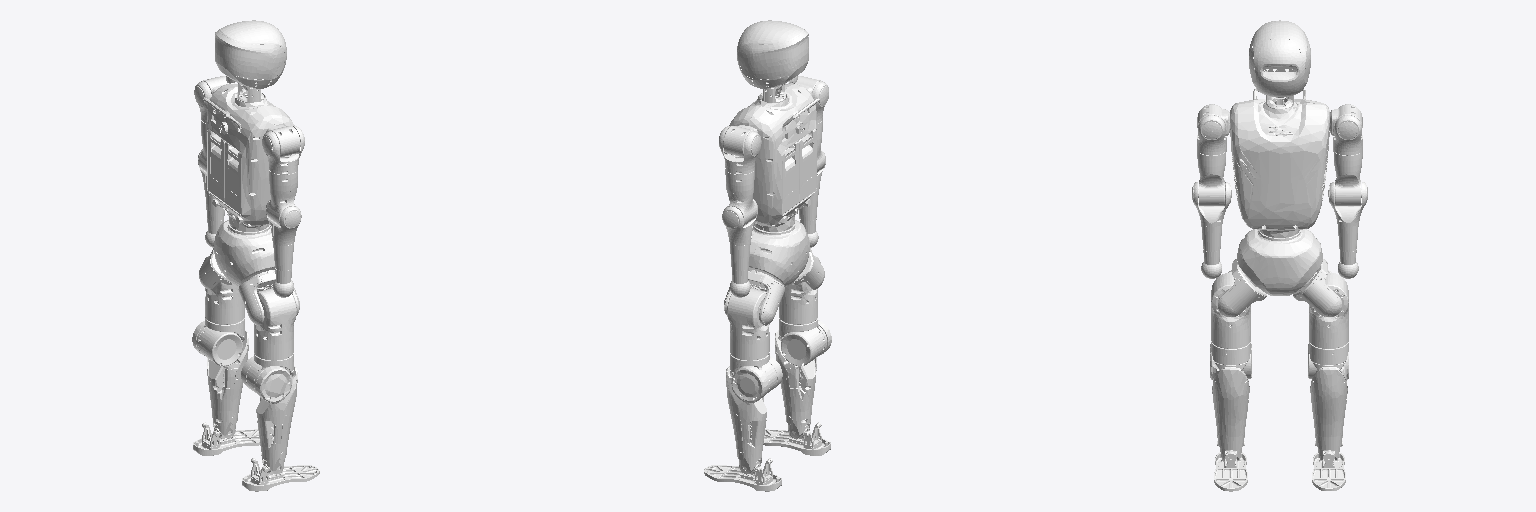
--- Facts derived from the render (not from the file) ---
Views: 3 orthographic renders of the robot side by side, from view 1: azimuth 30°, elevation 25°; view 2: azimuth 150°, elevation 25°; view 3: azimuth 270°, elevation 25°.
Model biped_s14 with 26 links and 25 joints (21 revolute, 4 fixed), rooted at base_link, posed every joint at zero.
Links seen in each view (by area): view 1: base_link, head_pitch, leg_r4_link, waist_yaw_link, leg_l4_link, leg_r2_link, zarm_r4_link, leg_l3_link, leg_l2_link, leg_r6_link, leg_l6_link, zarm_r3_link (+6 smaller); view 2: base_link, head_pitch, leg_l4_link, waist_yaw_link, leg_r4_link, leg_l2_link, zarm_l4_link, leg_r3_link, leg_r2_link, leg_l6_link, leg_r6_link, leg_l1_link (+6 smaller); view 3: base_link, waist_yaw_link, head_pitch, leg_r4_link, leg_l4_link, leg_l2_link, leg_r2_link, zarm_l4_link, zarm_r4_link, zarm_r3_link, zarm_l3_link, leg_l1_link (+7 smaller).
Link boxes in pixels (<box>): base_link: <box>204,84,294,231</box>; head_pitch: <box>215,20,286,88</box>; leg_r4_link: <box>256,366,297,474</box>; waist_yaw_link: <box>214,220,274,286</box>; leg_l4_link: <box>192,321,248,438</box>; leg_r2_link: <box>254,288,296,360</box>; zarm_r4_link: <box>266,199,301,297</box>; leg_l3_link: <box>196,317,244,366</box>; leg_l2_link: <box>203,256,244,324</box>; leg_r6_link: <box>242,458,319,491</box>; leg_l6_link: <box>193,422,259,455</box>; zarm_r3_link: <box>266,170,299,224</box>; base_link: <box>728,84,819,231</box>; head_pitch: <box>737,20,808,88</box>; leg_l4_link: <box>726,366,767,474</box>; waist_yaw_link: <box>749,220,809,286</box>; leg_r4_link: <box>775,320,831,438</box>; leg_l2_link: <box>727,288,769,360</box>; zarm_l4_link: <box>722,199,757,297</box>; leg_r3_link: <box>778,318,826,366</box>; leg_r2_link: <box>779,256,820,324</box>; leg_l6_link: <box>704,458,781,491</box>; leg_r6_link: <box>763,422,830,455</box>; leg_l1_link: <box>724,270,784,325</box>; base_link: <box>1230,89,1329,237</box>; waist_yaw_link: <box>1237,229,1322,295</box>; head_pitch: <box>1249,20,1310,96</box>; leg_r4_link: <box>1210,344,1249,460</box>; leg_l4_link: <box>1310,352,1348,460</box>; leg_l2_link: <box>1309,272,1348,353</box>; leg_r2_link: <box>1211,272,1250,353</box>; zarm_l4_link: <box>1328,182,1367,278</box>; zarm_r4_link: <box>1192,182,1231,278</box>; zarm_r3_link: <box>1197,150,1226,205</box>; zarm_l3_link: <box>1333,150,1362,205</box>; leg_l1_link: <box>1293,259,1341,316</box>.
Bounding box of the posed robot: 0.2167 × 0.4233 × 1.17 m (x, y, z).
24 mesh visuals loaded from 24 distinct referenced files (24 binary STL).

The robot description file, URDF, robot "biped_s14":
<?xml version='1.0' encoding='utf-8'?>
<robot name="biped_s14">
  <mujoco>
    <compiler meshdir="../meshes/" balanceinertia="true" discardvisual="false" />
    <!-- Add site to base_link via worldbody override -->
    <worldbody>
      <body name="base_link" pos="0 0 0.68">
        <site name="imu" pos="0 0 0" />
      </body>
    </worldbody>
    <!-- Sensor definitions -->
    <sensor>
      <accelerometer name="BodyAcc" site="imu"/>
      <velocimeter name="BodyVel" site="imu"/>
      <gyro name="BodyGyro" site="imu"/>
      <framepos name="BodyPos" objtype="site" objname="imu"/>
      <framequat name="BodyQuat" objtype="site" objname="imu"/>
      <jointpos name="waist_yaw_joint_pos" joint="waist_yaw_joint" />
      <jointpos name="leg_l1_joint_pos" joint="leg_l1_joint" />
      <jointpos name="leg_l2_joint_pos" joint="leg_l2_joint" />
      <jointpos name="leg_l3_joint_pos" joint="leg_l3_joint" />
      <jointpos name="leg_l4_joint_pos" joint="leg_l4_joint" />
      <jointpos name="leg_l5_joint_pos" joint="leg_l5_joint" />
      <jointpos name="leg_l6_joint_pos" joint="leg_l6_joint" />
      <jointpos name="leg_r1_joint_pos" joint="leg_r1_joint" />
      <jointpos name="leg_r2_joint_pos" joint="leg_r2_joint" />
      <jointpos name="leg_r3_joint_pos" joint="leg_r3_joint" />
      <jointpos name="leg_r4_joint_pos" joint="leg_r4_joint" />
      <jointpos name="leg_r5_joint_pos" joint="leg_r5_joint" />
      <jointpos name="leg_r6_joint_pos" joint="leg_r6_joint" />
      <jointpos name="zarm_l1_joint_pos" joint="zarm_l1_joint" />
      <jointpos name="zarm_l2_joint_pos" joint="zarm_l2_joint" />
      <jointpos name="zarm_l3_joint_pos" joint="zarm_l3_joint" />
      <jointpos name="zarm_l4_joint_pos" joint="zarm_l4_joint" />
      <jointpos name="zarm_r1_joint_pos" joint="zarm_r1_joint" />
      <jointpos name="zarm_r2_joint_pos" joint="zarm_r2_joint" />
      <jointpos name="zarm_r3_joint_pos" joint="zarm_r3_joint" />
      <jointpos name="zarm_r4_joint_pos" joint="zarm_r4_joint" />
      <jointvel name="leg_l1_joint_vel" joint="leg_l1_joint" />
      <jointvel name="leg_l2_joint_vel" joint="leg_l2_joint" />
      <jointvel name="leg_l3_joint_vel" joint="leg_l3_joint" />
      <jointvel name="leg_l4_joint_vel" joint="leg_l4_joint" />
      <jointvel name="leg_l5_joint_vel" joint="leg_l5_joint" />
      <jointvel name="leg_l6_joint_vel" joint="leg_l6_joint" />
      <jointvel name="leg_r1_joint_vel" joint="leg_r1_joint" />
      <jointvel name="leg_r2_joint_vel" joint="leg_r2_joint" />
      <jointvel name="leg_r3_joint_vel" joint="leg_r3_joint" />
      <jointvel name="leg_r4_joint_vel" joint="leg_r4_joint" />
      <jointvel name="leg_r5_joint_vel" joint="leg_r5_joint" />
      <jointvel name="leg_r6_joint_vel" joint="leg_r6_joint" />
      <jointvel name="waist_yaw_joint_vel" joint="waist_yaw_joint" />
      <jointvel name="zarm_l1_joint_vel" joint="zarm_l1_joint" />
      <jointvel name="zarm_l2_joint_vel" joint="zarm_l2_joint" />
      <jointvel name="zarm_l3_joint_vel" joint="zarm_l3_joint" />
      <jointvel name="zarm_l4_joint_vel" joint="zarm_l4_joint" />
      <jointvel name="zarm_r1_joint_vel" joint="zarm_r1_joint" />
      <jointvel name="zarm_r2_joint_vel" joint="zarm_r2_joint" />
      <jointvel name="zarm_r3_joint_vel" joint="zarm_r3_joint" />
      <jointvel name="zarm_r4_joint_vel" joint="zarm_r4_joint" />
    </sensor>
  </mujoco>
  <!-- <link name="dummy_link" />   -->
  <link name="base_link">
    <inertial>
      <origin xyz="-0.00602072 -0.00050080 0.14657555" rpy="0 0 0" />
      <mass value="8.0177760" />
      <inertia ixx="0.08599049" ixy="0.0" ixz="0.0" iyy="0.06733455" iyz="0.0" izz="0.04204287" />
    </inertial>
    <visual>
      <origin xyz="0 0 0" rpy="0 0 0" />
      <geometry>
        <mesh filename="../meshes/torso.STL" />
      </geometry>
      <material name="1">
        <color rgba="1 1 1 1" />
      </material>
    </visual>
    <collision>
      <origin xyz="0.01 0 0.14" rpy="0 0 0" />
      <geometry>
        <box size="0.14 0.2 0.26" />
      </geometry>
    </collision>
    <collision>
      <origin xyz="-0.09 0 0.285" rpy="1.5708 0 0" />
      <geometry>
        <capsule radius="0.005" length="0.1" />
      </geometry>
    </collision>
  </link>
  <!-- <joint name="dummy_to_base_link" type="floating">
    <origin xyz="0 0 0" rpy="0 0 0" />
    <parent link="dummy_link" />
    <child link="base_link" />
  </joint> -->
  <link name="waist_yaw_link">
    <inertial>
      <origin xyz="0.00152560 0.00013413 -0.11927572" rpy="0 0 0" />
      <mass value="4.60775998" />
      <inertia ixx="0.02101970" ixy="0.0" ixz="0.0" iyy="0.01458628" iyz="0.0" izz="0.01454007" />
    </inertial>
    <visual>
      <origin xyz="0 0 0" rpy="0 0 0" />
      <geometry>
        <mesh filename="../meshes/waist.STL" />
      </geometry>
      <material name="">
        <color rgba="1 1 1 1" />
      </material>
    </visual>
    <collision>
      <origin xyz="0.005 0 -0.11" rpy="0.786 0 0" />
      <geometry>
        <box size="0.12 0.14 0.14" />
      </geometry>
    </collision>
  </link>
  <joint name="waist_yaw_joint" type="revolute">
    <origin xyz="0 0 0" rpy="0 0 0" />
    <parent link="base_link" />
    <child link="waist_yaw_link" />
    <axis xyz="0 0 1" />
    <limit lower="-2.61799387799149" upper="2.61799387799149" effort="50" velocity="8.37333333333333" />
  </joint>
  <link name="leg_l1_link">
    <inertial>
      <origin xyz="-0.00211316 -0.02890476 0.02937117" rpy="0 0 0" />
      <mass value="0.42877618" />
      <inertia ixx="0.00068134" ixy="0.0" ixz="0.0" iyy="0.00105689" iyz="0.0" izz="0.00113479" />
    </inertial>
    <visual>
      <origin xyz="0 0 0" rpy="0 0 0" />
      <geometry>
        <mesh filename="../meshes/l_leg_pitch.STL" />
      </geometry>
      <material name="">
        <color rgba="1 1 1 1" />
      </material>
    </visual>
    <collision>
      <origin xyz="-0.007 -0.015 0.015" rpy="0.786 0 0" />
      <geometry>
        <box size="0.1 0.08 0.1" />
      </geometry>
    </collision>
  </link>
  <joint name="leg_l1_joint" type="revolute">
    <origin xyz="0.0 0.11751 -0.21991621" rpy="0 0 0" />
    <parent link="waist_yaw_link" />
    <child link="leg_l1_link" />
    <axis xyz="0 0.70711 -0.70711" />
    <limit lower="-3.228" upper="2.356" effort="180" velocity="23.55" />
    <dynamics damping="0.2" friction="0.1" />
  </joint>
  <link name="leg_l2_link">
    <inertial>
      <origin xyz="0.00300817 0.00001847 -0.05309364" rpy="0 0 0" />
      <mass value="2.5" />
      <inertia ixx="0.00730479" ixy="0.0" ixz="0.0" iyy="0.00721205" iyz="0.0" izz="0.00242566" />
    </inertial>
    <visual>
      <origin xyz="0 0 0" rpy="0 0 0" />
      <geometry>
        <mesh filename="../meshes/l_leg_roll.STL" />
      </geometry>
      <material name="">
        <color rgba="1 1 1 1" />
      </material>
    </visual>
  </link>
  <joint name="leg_l2_joint" type="revolute">
    <origin xyz="0 0 0" rpy="0 0 0" />
    <parent link="leg_l1_link" />
    <child link="leg_l2_link" />
    <axis xyz="1 0 0" />
    <limit lower="-0.845961088441652" upper="2.41413942135856" effort="100" velocity="41.3433333333333" />
    <dynamics damping="0.2" friction="0.1" />
  </joint>
  <link name="leg_l3_link">
    <inertial>
      <origin xyz="-0.01544971  -0.00591775 -0.17489584" rpy="0 0 0" />
      <mass value="1.109669" />
      <inertia ixx="0.00103599" ixy="0.0" ixz="0.0" iyy="0.00139772" iyz="0.0" izz="0.00144923" />
    </inertial>
    <visual>
      <origin xyz="0 0 0" rpy="0 0 0" />
      <geometry>
        <mesh filename="../meshes/l_leg_yaw.STL" />
      </geometry>
      <material name="">
        <color rgba="1 1 1 1" />
      </material>
    </visual>
    <collision>
      <origin xyz="-0.021 0 -0.182" rpy="1.57 0 0" />
      <geometry>
        <capsule radius="0.045" length="0.03" />
      </geometry>
    </collision>
  </link>
  <joint name="leg_l3_joint" type="revolute">
    <origin xyz="0 0 0" rpy="0 0 0" />
    <parent link="leg_l2_link" />
    <child link="leg_l3_link" />
    <axis xyz="0 0 1" />
    <limit lower="-1.658" upper="1.658" effort="100" velocity="41.3433333333333" />
    <dynamics damping="0.2" friction="0.1" />
  </joint>
  <link name="leg_l4_link">
    <inertial>
      <origin xyz="0.02228808 0.00808286 -0.10477895" rpy="0 0 0" />
      <mass value="1.55038362" />
      <inertia ixx="0.00666050" ixy="0.0" ixz="0.0" iyy="0.00641861" iyz="0.0" izz="0.00106882" />
    </inertial>
    <visual>
      <origin xyz="0 0 0" rpy="0 0 0" />
      <geometry>
        <mesh filename="../meshes/l_knee.STL" />
      </geometry>
      <material name="">
        <color rgba="1 1 1 1" />
      </material>
    </visual>
    <collision>
      <origin xyz="0.021 0 -0.13" rpy="0 0 0" />
      <geometry>
        <capsule radius="0.045" length="0.18" />
      </geometry>
    </collision>
    <collision>
      <origin xyz="0.07 0 0.01" rpy="1.57 0 0" />
      <geometry>
        <capsule radius="0.005" length="0.04" />
      </geometry>
    </collision>
    <collision>
      <origin xyz="0.072 0 -0.05" rpy="1.57 0 0" />
      <geometry>
        <capsule radius="0.005" length="0.02" />
      </geometry>
    </collision>
  </link>
  <joint name="leg_l4_joint" type="revolute">
    <origin xyz="-0.021 0 -0.182" rpy="0 0 0" />
    <parent link="leg_l3_link" />
    <child link="leg_l4_link" />
    <axis xyz="0 1 0" />
    <limit lower="0.0" upper="2.61799387799149" effort="180" velocity="23.55" />
    <dynamics damping="0.2" friction="0.1" />
  </joint>
  <link name="leg_l5_link">
    <inertial>
      <origin xyz="0.0 0.0 0.0" rpy="0 0 0" />
      <mass value="0.06923766 " />
      <inertia ixx="6.7e-06" ixy="0.0" ixz="0.0" iyy="6.7e-06" iyz="0.0" izz="1.172e-05" />
    </inertial>
    <visual>
      <origin xyz="0 0 0" rpy="0 0 0" />
      <geometry>
        <mesh filename="../meshes/l_foot_pitch.STL" />
      </geometry>
      <material name="">
        <color rgba="1 1 1 1" />
      </material>
    </visual>
  </link>
  <joint name="leg_l5_joint" type="revolute">
    <origin xyz="0.021 0 -0.235" rpy="0 0 0" />
    <parent link="leg_l4_link" />
    <child link="leg_l5_link" />
    <axis xyz="0 1 0" />
    <limit lower="-0.872664625997165" upper="0.523598775598299" effort="36" velocity="23.0266666666667" />
    <dynamics damping="0.2" friction="0.1" />
  </joint>
  <link name="leg_l6_link">
    <inertial>
      <origin xyz="-0.00410545 0 -0.02650622" rpy="0 0 0" />
      <mass value="0.34819511 " />
      <inertia ixx="0.00019603" ixy="0.0" ixz="0.0" iyy="0.00090207" iyz="0.0" izz="0.00096359" />
    </inertial>
    <visual>
      <origin xyz="0 0 0" rpy="0 0 0" />
      <geometry>
        <mesh filename="../meshes/l_foot_roll.STL" />
      </geometry>
      <material name="">
        <color rgba="1 1 1 1" />
      </material>
    </visual>
    <collision>
      <origin xyz="0.082 0 -0.0475" rpy="0 0 0" />
      <geometry>
        <cylinder radius="0.04" length="0.008" />
      </geometry>
    </collision>
    <collision>
      <origin xyz="-0.045 0 -0.0475" rpy="0 0 0" />
      <geometry>
        <cylinder radius="0.04" length="0.008" />
      </geometry>
    </collision>
    <collision>
      <origin xyz="0.015 0 -0.0475" rpy="0 0 0" />
      <geometry>
        <box size="0.12 0.076 0.008" />
      </geometry>
    </collision>
  </link>
  <joint name="leg_l6_joint" type="revolute">
    <origin xyz="0 0 0" rpy="0 0 0" />
    <parent link="leg_l5_link" />
    <child link="leg_l6_link" />
    <axis xyz="1 0 0" />
    <limit lower="-0.261799387799149" upper="0.261799387799149" effort="36" velocity="23.0266666666667" />
    <dynamics damping="0.2" friction="0.1" />
  </joint>
  <link name="leg_r1_link">
    <inertial>
      <origin xyz="-0.00211316 0.02890476 0.02937117" rpy="0 0 0" />
      <mass value="0.42877618" />
      <inertia ixx="0.00068134" ixy="0.0" ixz="0.0" iyy="0.00105689" iyz="0.0" izz="0.00113479" />
    </inertial>
    <visual>
      <origin xyz="0 0 0" rpy="0 0 0" />
      <geometry>
        <mesh filename="../meshes/r_leg_pitch.STL" />
      </geometry>
      <material name="">
        <color rgba="1 1 1 1" />
      </material>
    </visual>
    <collision>
      <origin xyz="-0.007 0.015 0.015" rpy="-0.786 0 0" />
      <geometry>
        <box size="0.1 0.08 0.1" />
      </geometry>
    </collision>
  </link>
  <joint name="leg_r1_joint" type="revolute">
    <origin xyz="0.0 -0.11751 -0.21991621" rpy="0 0 0" />
    <parent link="waist_yaw_link" />
    <child link="leg_r1_link" />
    <axis xyz="0 -0.70711 -0.70711" />
    <limit lower="-2.356" upper="3.228" effort="180" velocity="23.55" />
    <dynamics damping="0.2" friction="0.1" />
  </joint>
  <link name="leg_r2_link">
    <inertial>
      <origin xyz="0.00300817 0.00001847 -0.05309364" rpy="0 0 0" />
      <mass value="2.5" />
      <inertia ixx="0.00730479" ixy="0.0" ixz="0.0" iyy="0.00721205" iyz="0.0" izz="0.00242566" />
    </inertial>
    <visual>
      <origin xyz="0 0 0" rpy="0 0 0" />
      <geometry>
        <mesh filename="../meshes/r_leg_roll.STL" />
      </geometry>
      <material name="">
        <color rgba="1 1 1 1" />
      </material>
    </visual>
  </link>
  <joint name="leg_r2_joint" type="revolute">
    <origin xyz="0 0 0" rpy="0 0 0" />
    <parent link="leg_r1_link" />
    <child link="leg_r2_link" />
    <axis xyz="1 0 0" />
    <limit lower="-2.41413942135856" upper="0.847008285992848" effort="100" velocity="41.3433333333333" />
    <dynamics damping="0.2" friction="0.1" />
  </joint>
  <link name="leg_r3_link">
    <inertial>
      <origin xyz="-0.01544971  0.00591775 -0.17489584" rpy="0 0 0" />
      <mass value="1.109669" />
      <inertia ixx="0.00103599" ixy="0.0" ixz="0.0" iyy="0.00139772" iyz="0.0" izz="0.00144923" />
    </inertial>
    <visual>
      <origin xyz="0 0 0" rpy="0 0 0" />
      <geometry>
        <mesh filename="../meshes/r_leg_yaw.STL" />
      </geometry>
      <material name="">
        <color rgba="1 1 1 1" />
      </material>
    </visual>
    <collision>
      <origin xyz="-0.021 0 -0.182" rpy="1.57 0 0" />
      <geometry>
        <capsule radius="0.045" length="0.03" />
      </geometry>
    </collision>
  </link>
  <joint name="leg_r3_joint" type="revolute">
    <origin xyz="0 0 0" rpy="0 0 0" />
    <parent link="leg_r2_link" />
    <child link="leg_r3_link" />
    <axis xyz="0 0 1" />
    <limit lower="-1.658" upper="1.658" effort="100" velocity="41.3433333333333" />
    <dynamics damping="0.2" friction="0.1" />
  </joint>
  <link name="leg_r4_link">
    <inertial>
      <origin xyz="0.02228808 -0.00808286 -0.10477895" rpy="0 0 0" />
      <mass value="1.55038362" />
      <inertia ixx="0.00666050" ixy="0.0" ixz="0.0" iyy="0.00641861" iyz="0.0" izz="0.00106882" />
    </inertial>
    <visual>
      <origin xyz="0 0 0" rpy="0 0 0" />
      <geometry>
        <mesh filename="../meshes/r_knee.STL" />
      </geometry>
      <material name="">
        <color rgba="1 1 1 1" />
      </material>
    </visual>
    <collision>
      <origin xyz="0.021 0 -0.13" rpy="0 0 0" />
      <geometry>
        <capsule radius="0.045" length="0.18" />
      </geometry>
    </collision>
    <collision>
      <origin xyz="0.07 0 0.01" rpy="1.57 0 0" />
      <geometry>
        <capsule radius="0.005" length="0.04" />
      </geometry>
    </collision>
    <collision>
      <origin xyz="0.072 0 -0.05" rpy="1.57 0 0" />
      <geometry>
        <capsule radius="0.005" length="0.02" />
      </geometry>
    </collision>
  </link>
  <joint name="leg_r4_joint" type="revolute">
    <origin xyz="-0.021 0 -0.182" rpy="0 0 0" />
    <parent link="leg_r3_link" />
    <child link="leg_r4_link" />
    <axis xyz="0 1 0" />
    <limit lower="0.0" upper="2.61799387799149" effort="180" velocity="23.55" />
    <dynamics damping="0.2" friction="0.1" />
  </joint>
  <link name="leg_r5_link">
    <inertial>
      <origin xyz="0.0 0.0 0.0" rpy="0 0 0" />
      <mass value="0.06923766 " />
      <inertia ixx="6.7e-06" ixy="0.0" ixz="0.0" iyy="6.7e-06" iyz="0.0" izz="1.172e-05" />
    </inertial>
    <visual>
      <origin xyz="0 0 0" rpy="0 0 0" />
      <geometry>
        <mesh filename="../meshes/r_foot_pitch.STL" />
      </geometry>
      <material name="">
        <color rgba="1 1 1 1" />
      </material>
    </visual>
  </link>
  <joint name="leg_r5_joint" type="revolute">
    <origin xyz="0.021 0 -0.235" rpy="0 0 0" />
    <parent link="leg_r4_link" />
    <child link="leg_r5_link" />
    <axis xyz="0 1 0" />
    <limit lower="-0.872664625997165" upper="0.523598775598299" effort="36" velocity="23.0266666666667" />
    <dynamics damping="0.2" friction="0.1" />
  </joint>
  <link name="leg_r6_link">
    <inertial>
      <origin xyz="-0.00410545 0 -0.02650622" rpy="0 0 0" />
      <mass value="0.34819511 " />
      <inertia ixx="0.00019603" ixy="0.0" ixz="0.0" iyy="0.00090207" iyz="0.0" izz="0.00096359" />
    </inertial>
    <visual>
      <origin xyz="0 0 0" rpy="0 0 0" />
      <geometry>
        <mesh filename="../meshes/r_foot_roll.STL" />
      </geometry>
      <material name="">
        <color rgba="1 1 1 1" />
      </material>
    </visual>
    <collision>
      <origin xyz="0.082 0 -0.0475" rpy="0 0 0" />
      <geometry>
        <cylinder radius="0.04" length="0.008" />
      </geometry>
    </collision>
    <collision>
      <origin xyz="-0.045 0 -0.0475" rpy="0 0 0" />
      <geometry>
        <cylinder radius="0.04" length="0.008" />
      </geometry>
    </collision>
    <collision>
      <origin xyz="0.015 0 -0.0475" rpy="0 0 0" />
      <geometry>
        <box size="0.12 0.076 0.008" />
      </geometry>
    </collision>
  </link>
  <joint name="leg_r6_joint" type="revolute">
    <origin xyz="0 0 0" rpy="0 0 0" />
    <parent link="leg_r5_link" />
    <child link="leg_r6_link" />
    <axis xyz="1 0 0" />
    <limit lower="-0.261799387799149" upper="0.261799387799149" effort="36" velocity="23.0266666666667" />
    <dynamics damping="0.2" friction="0.1" />
  </joint>
  <link name="zarm_l1_link">
    <inertial>
      <origin xyz="0.00360552 -0.00144553 0.00001956" rpy="0 0 0" />
      <mass value="0.37301570 " />
      <inertia ixx="0.00011508" ixy="0." ixz="0." iyy="0.00013133" iyz="0." izz="0.00015171" />
    </inertial>
    <visual>
      <origin xyz="0 0 0" rpy="0 0 0" />
      <geometry>
        <mesh filename="../meshes/l_arm_pitch.STL" />
      </geometry>
      <material name="">
        <color rgba="1 1 1 1" />
      </material>
    </visual>
    <collision>
      <origin xyz="0 0 0" rpy="0 1.5708 0" />
      <geometry>
        <capsule radius="0.035" length="0.04" />
      </geometry>
    </collision>
  </link>
  <joint name="zarm_l1_joint" type="revolute">
    <origin xyz="0.00029999 0.16350292 0.23992606" rpy="0 0 0" />
    <parent link="base_link" />
    <child link="zarm_l1_link" />
    <axis xyz="0 1 0" />
    <limit lower="-3.14159265358979" upper="2.0943951023932" effort="12" velocity="7.32666666666667" />
    <dynamics damping="0.2" friction="0.1" />
  </joint>
  <link name="zarm_l2_link">
    <inertial>
      <origin xyz="0.00089424 0 -0.04238937" rpy="0 0 0" />
      <mass value="0.15112869" />
      <inertia ixx="0.00018029" ixy="0.0" ixz="0." iyy="0.00022693" iyz="0.0" izz="0.00015001" />
    </inertial>
    <visual>
      <origin xyz="0 0 0" rpy="0 0 0" />
      <geometry>
        <mesh filename="../meshes/l_arm_roll.STL" />
      </geometry>
      <material name="">
        <color rgba="1 1 1 1" />
      </material>
    </visual>
  </link>
  <joint name="zarm_l2_joint" type="revolute">
    <origin xyz="0 0 0" rpy="0 0 0" />
    <parent link="zarm_l1_link" />
    <child link="zarm_l2_link" />
    <axis xyz="1 0 0" />
    <limit lower="-0.349065850398866" upper="3.49065850398866" effort="12" velocity="7.32666666666667" />
    <dynamics damping="0.2" friction="0.1" />
  </joint>
  <link name="zarm_l3_link">
    <inertial>
      <origin xyz="-0.00011141 -0.00359387 -0.14417629" rpy="0 0 0" />
      <mass value="0.66922333 " />
      <inertia ixx="0.00170115" ixy="0." ixz="0." iyy="0.00172455" iyz="0." izz="0.00031003" />
    </inertial>
    <visual>
      <origin xyz="0 0 0" rpy="0 0 0" />
      <geometry>
        <mesh filename="../meshes/l_arm_yaw.STL" />
      </geometry>
      <material name="">
        <color rgba="1 1 1 1" />
      </material>
    </visual>
    <collision>
      <origin xyz="0 0 -0.1" rpy="0 0 0" />
      <geometry>
        <capsule radius="0.035" length="0.04" />
      </geometry>
    </collision>
  </link>
  <joint name="zarm_l3_joint" type="revolute">
    <origin xyz="0 0 0" rpy="0 0 0" />
    <parent link="zarm_l2_link" />
    <child link="zarm_l3_link" />
    <axis xyz="0 0 1" />
    <limit lower="-1.5707963267949" upper="1.5707963267949" effort="12" velocity="7.32666666666667" />
    <dynamics damping="0.2" friction="0.1" />
  </joint>
  <link name="zarm_l4_link">
    <inertial>
      <origin xyz="-0.00053745 -0.00090249 -0.09492575" rpy="0 0 0" />
      <mass value="0.16269441 " />
      <inertia ixx="0.00085779" ixy="0." ixz="0." iyy="0.00081091" iyz="0." izz="0.00012103" />
    </inertial>
    <visual>
      <origin xyz="0 0 0" rpy="0 0 0" />
      <geometry>
        <mesh filename="../meshes/l_forearm.STL" />
      </geometry>
      <material name="">
        <color rgba="1 1 1 1" />
      </material>
    </visual>
    <collision>
      <origin xyz="0 0 0" rpy="1.57 0 0" />
      <geometry>
        <capsule radius="0.03" length="0.03" />
      </geometry>
    </collision>
    <collision>
      <origin xyz="0 0 -0.12" rpy="0 0 0" />
      <geometry>
        <capsule radius="0.025" length="0.155" />
      </geometry>
    </collision>
  </link>
  <joint name="zarm_l4_joint" type="revolute">
    <origin xyz="0 0 -0.188" rpy="0 0 0" />
    <parent link="zarm_l3_link" />
    <child link="zarm_l4_link" />
    <axis xyz="0 1 0" />
    <limit lower="-2.26892802759263" upper="0.0" effort="12" velocity="7.32666666666667" />
    <dynamics damping="0.2" friction="0.1" />
  </joint>
  <!-- Left hand (400g dexterous hand) -->
  <link name="hand_l_link">
    <inertial>
      <origin xyz="0 0 0" rpy="0 0 0" />
      <mass value="0.4" />
      <!-- Sphere inertia: I = (2/5) * m * r^2, r=0.02m -->
      <inertia ixx="0.000064" ixy="0" ixz="0" iyy="0.000064" iyz="0" izz="0.000064" />
    </inertial>
  </link>
  <joint name="hand_l_joint" type="fixed">
    <origin xyz="0 0 -0.1975" rpy="0 0 0" />
    <parent link="zarm_l4_link" />
    <child link="hand_l_link" />
  </joint>
  <link name="zarm_r1_link">
    <inertial>
      <origin xyz="0.00360552 -0.00144553 0.00001956" rpy="0 0 0" />
      <mass value="0.37301570 " />
      <inertia ixx="0.00011508" ixy="0." ixz="0." iyy="0.00013133" iyz="0." izz="0.00015171" />
    </inertial>
    <visual>
      <origin xyz="0 0 0" rpy="0 0 0" />
      <geometry>
        <mesh filename="../meshes/r_arm_pitch.STL" />
      </geometry>
      <material name="">
        <color rgba="1 1 1 1" />
      </material>
    </visual>
    <collision>
      <origin xyz="0 0 0" rpy="0 1.5708 0" />
      <geometry>
        <capsule radius="0.035" length="0.04" />
      </geometry>
    </collision>
  </link>
  <joint name="zarm_r1_joint" type="revolute">
    <origin xyz="0.00029999 -0.16350292 0.23992606" rpy="0 0 0" />
    <parent link="base_link" />
    <child link="zarm_r1_link" />
    <axis xyz="0 1 0" />
    <limit lower="-3.14159265358979" upper="2.0943951023932" effort="12" velocity="7.32666666666667" />
    <dynamics damping="0.2" friction="0.1" />
  </joint>
  <link name="zarm_r2_link">
    <inertial>
      <origin xyz="0.00089424 0 -0.04238937" rpy="0 0 0" />
      <mass value="0.15112869" />
      <inertia ixx="0.00018029" ixy="0.0" ixz="0." iyy="0.00022693" iyz="0.0" izz="0.00015001" />
    </inertial>
    <visual>
      <origin xyz="0 0 0" rpy="0 0 0" />
      <geometry>
        <mesh filename="../meshes/r_arm_roll.STL" />
      </geometry>
      <material name="">
        <color rgba="1 1 1 1" />
      </material>
    </visual>
  </link>
  <joint name="zarm_r2_joint" type="revolute">
    <origin xyz="0 0 0" rpy="0 0 0" />
    <parent link="zarm_r1_link" />
    <child link="zarm_r2_link" />
    <axis xyz="1 0 0" />
    <limit lower="-3.49065850398866" upper="0.349065850398866" effort="12" velocity="7.32666666666667" />
    <dynamics damping="0.2" friction="0.1" />
  </joint>
  <link name="zarm_r3_link">
    <inertial>
      <origin xyz="-0.00011141 -0.00359387 -0.14417629" rpy="0 0 0" />
      <mass value="0.66922333 " />
      <inertia ixx="0.00170115" ixy="0." ixz="0." iyy="0.00172455" iyz="0." izz="0.00031003" />
    </inertial>
    <visual>
      <origin xyz="0 0 0" rpy="0 0 0" />
      <geometry>
        <mesh filename="../meshes/r_arm_yaw.STL" />
      </geometry>
      <material name="">
        <color rgba="1 1 1 1" />
      </material>
    </visual>
    <collision>
      <origin xyz="0 0 -0.1" rpy="0 0 0" />
      <geometry>
        <capsule radius="0.035" length="0.04" />
      </geometry>
    </collision>
  </link>
  <joint name="zarm_r3_joint" type="revolute">
    <origin xyz="0 0 0" rpy="0 0 0" />
    <parent link="zarm_r2_link" />
    <child link="zarm_r3_link" />
    <axis xyz="0 0 1" />
    <limit lower="-1.5707963267949" upper="1.5707963267949" effort="12" velocity="7.32666666666667" />
    <dynamics damping="0.2" friction="0.1" />
  </joint>
  <link name="zarm_r4_link">
    <inertial>
      <origin xyz="-0.00053745 -0.00090249 -0.09492575" rpy="0 0 0" />
      <mass value="0.16269441 " />
      <inertia ixx="0.00085779" ixy="0." ixz="0." iyy="0.00081091" iyz="0." izz="0.00012103" />
    </inertial>
    <visual>
      <origin xyz="0 0 0" rpy="0 0 0" />
      <geometry>
        <mesh filename="../meshes/r_forearm.STL" />
      </geometry>
      <material name="">
        <color rgba="1 1 1 1" />
      </material>
    </visual>
    <collision>
      <origin xyz="0 0 0" rpy="1.57 0 0" />
      <geometry>
        <capsule radius="0.03" length="0.03" />
      </geometry>
    </collision>
    <collision>
      <origin xyz="0 0 -0.12" rpy="0 0 0" />
      <geometry>
        <capsule radius="0.025" length="0.155" />
      </geometry>
    </collision>
  </link>
  <joint name="zarm_r4_joint" type="revolute">
    <origin xyz="0 0 -0.188" rpy="0 0 0" />
    <parent link="zarm_r3_link" />
    <child link="zarm_r4_link" />
    <axis xyz="0 1 0" />
    <limit lower="-2.26892802759263" upper="0.0" effort="12" velocity="7.32666666666667" />
    <dynamics damping="0.2" friction="0.1" />
  </joint>
  <!-- Right hand (400g dexterous hand) -->
  <link name="hand_r_link">
    <inertial>
      <origin xyz="0 0 0" rpy="0 0 0" />
      <mass value="0.4" />
      <!-- Sphere inertia: I = (2/5) * m * r^2, r=0.02m -->
      <inertia ixx="0.000064" ixy="0" ixz="0" iyy="0.000064" iyz="0" izz="0.000064" />
    </inertial>
  </link>
  <joint name="hand_r_joint" type="fixed">
    <origin xyz="0 0 -0.1975" rpy="0 0 0" />
    <parent link="zarm_r4_link" />
    <child link="hand_r_link" />
  </joint>
  <link
    name="head_yaw">
    <inertial>
      <origin
        xyz="-0.00081546 0.0 0.01680967"
        rpy="0 0 0" />
      <mass
        value="1.03077542" />
      <inertia
        ixx="0.00215600"
        ixy="0"
        ixz="0."
        iyy="0.00189151"
        iyz="0."
        izz="0.00071659" />
    </inertial>
    <visual>
      <origin
        xyz="0 0 0"
        rpy="0 0 0" />
      <geometry>
        <mesh
          filename="../meshes/head_yaw.STL" />
      </geometry>
      <material
        name="">
        <color
          rgba="1 1 1 1" />
      </material>
    </visual>
  </link>
  <joint
    name="head_yaw"
    type="fixed">
    <origin
      xyz="0.004 0 0.35618"
      rpy="0 0 0" />
    <parent
      link="base_link" />
    <child
      link="head_yaw" />
    <axis
      xyz="0 0 1" />
  </joint>
  <link
    name="head_pitch">
    <inertial>
      <origin
        xyz="0.01466399 0.0 0.05742895"
        rpy="0 0 0" />
      <mass
        value="0.33654975 " />
      <inertia
        ixx="0.00119625"
        ixy="0."
        ixz="0."
        iyy="0.00141557"
        iyz="0."
        izz="0.00150717" />
    </inertial>
    <visual>
      <origin
        xyz="0 0 0"
        rpy="0 0 0" />
      <geometry>
        <mesh
          filename="../meshes/head_pitch.STL" />
      </geometry>
      <material
        name="">
        <color
          rgba="1 1 1 1" />
      </material>
    </visual>
    <collision>
      <origin xyz="0 0 0.035" rpy="0 0 0" />
      <geometry>
        <sphere radius="0.075" />
      </geometry>
    </collision>
  </link>
  <joint
    name="head_pitch"
    type="fixed">
    <origin
      xyz="0 0 0"
      rpy="0 0 0" />
    <parent
      link="head_yaw" />
    <child
      link="head_pitch" />
    <axis
      xyz="0 1 0" />
  </joint>
</robot>
